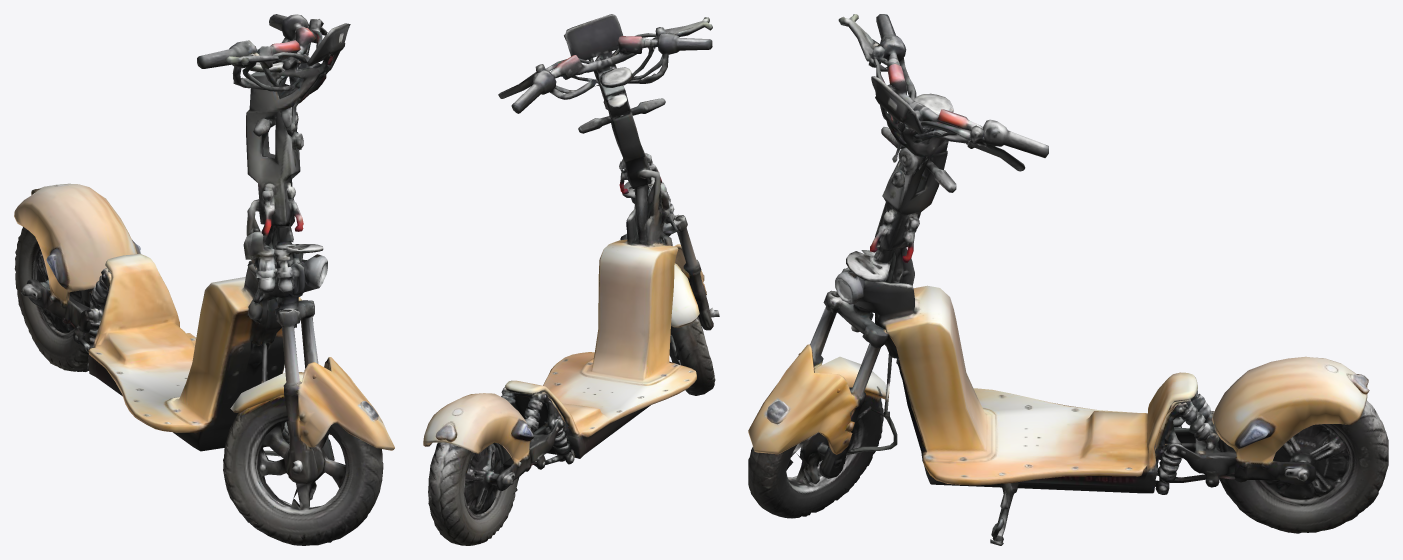
Rendered from electric scooter 3d model (1).glb.
3 views of the same model, side by side, from view 1: azimuth 30°, elevation 25°; view 2: azimuth 150°, elevation 25°; view 3: azimuth 270°, elevation 25° (orthographic). The views are drawn at different scales.
Visible parts, largest first — view 1: tripo_node_e43426ce-c4a4-4d1e-a189-ddc7e8e9d8ad; view 2: tripo_node_e43426ce-c4a4-4d1e-a189-ddc7e8e9d8ad; view 3: tripo_node_e43426ce-c4a4-4d1e-a189-ddc7e8e9d8ad.
Part boxes in pixels (x1,y1,x2,y2): tripo_node_e43426ce-c4a4-4d1e-a189-ddc7e8e9d8ad: [14, 14, 394, 545]; tripo_node_e43426ce-c4a4-4d1e-a189-ddc7e8e9d8ad: [423, 14, 719, 545]; tripo_node_e43426ce-c4a4-4d1e-a189-ddc7e8e9d8ad: [748, 14, 1388, 545].
Bounding box in the file's own units: 0.3777 × 0.8395 × 1.
1 material, 1 textured.
